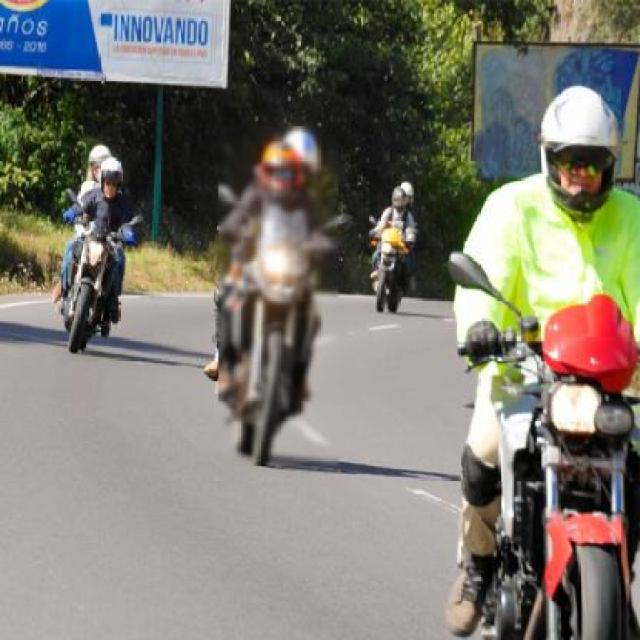helmet: (525, 97, 627, 222), (252, 138, 301, 200), (288, 132, 329, 177), (83, 140, 112, 175), (101, 157, 123, 199), (386, 183, 406, 210), (399, 177, 417, 204)
motorcycle: (425, 92, 639, 640), (196, 130, 358, 476), (49, 135, 152, 364), (368, 174, 425, 322)
